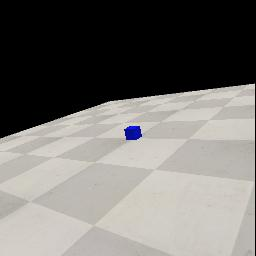box: (124, 126, 142, 140)
